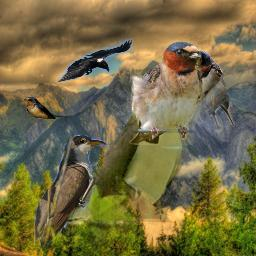Crow: (57, 38, 133, 82)
Cuckoo: (46, 61, 205, 248), (34, 135, 124, 248)
Swallow: (129, 41, 205, 145), (176, 50, 235, 127), (24, 97, 68, 119)
